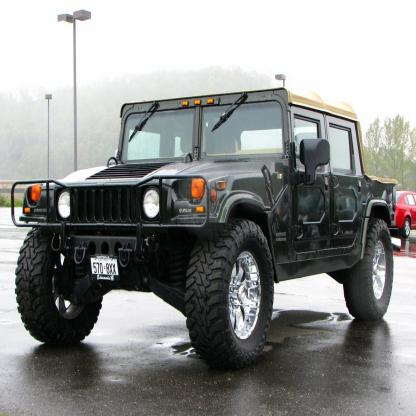Car: (8, 80, 400, 375), (396, 189, 416, 238)
